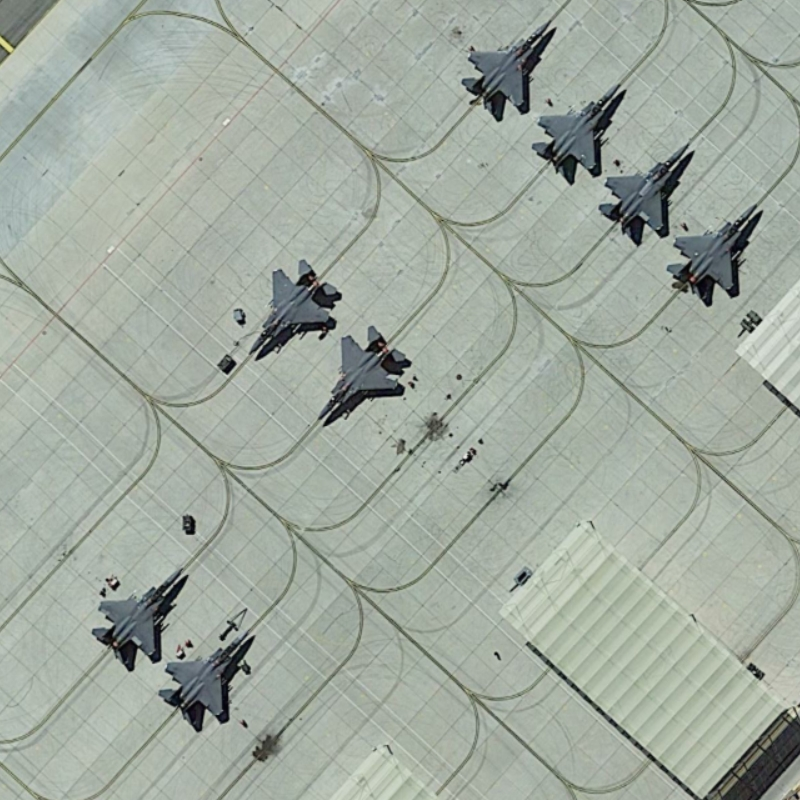A13: (84, 561, 194, 670), (589, 137, 698, 246), (454, 14, 560, 125), (308, 319, 414, 429), (660, 200, 765, 309), (243, 249, 341, 363), (529, 77, 629, 187), (156, 623, 253, 733)
